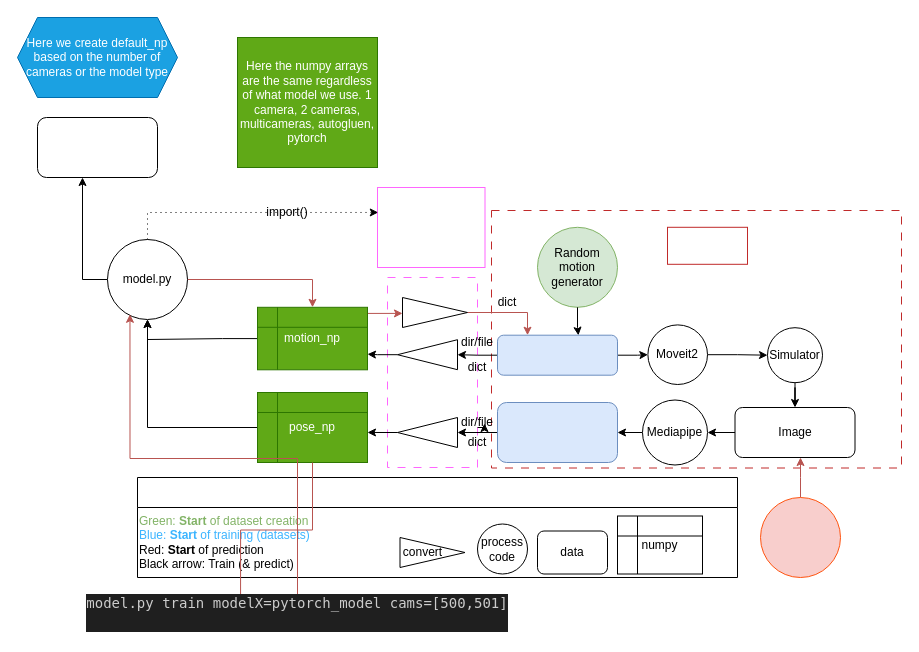
This 919x652 diagram has some shape labels left out. Each missing label, with the centre of its shape:
Conversion module (moveit2mediapipe): the point at 430,227
dataset generation: the point at 707,245
landmark_json: the point at 557,432
Legend: the point at 437,527
motion_json: the point at 557,354
pytorch/autogluen: the point at 97,147
Real camera: the point at 800,537
